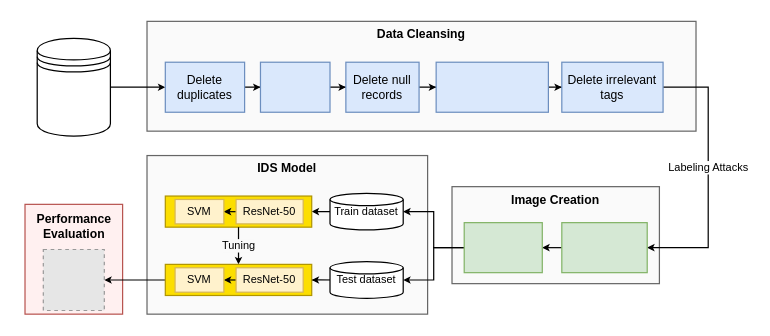
This 770x336 diagram has some shape labels left out. Grey dashed boxes stand in for pictures. Each missing label, with the box of its shape:
CIC-IDS Dataset: (36, 37, 110, 136)
Delete data without variance: (435, 61, 548, 112)
Feature one-hot encoding: (561, 221, 647, 273)
Image building: (463, 221, 542, 273)
Normalize data values: (259, 61, 330, 112)
